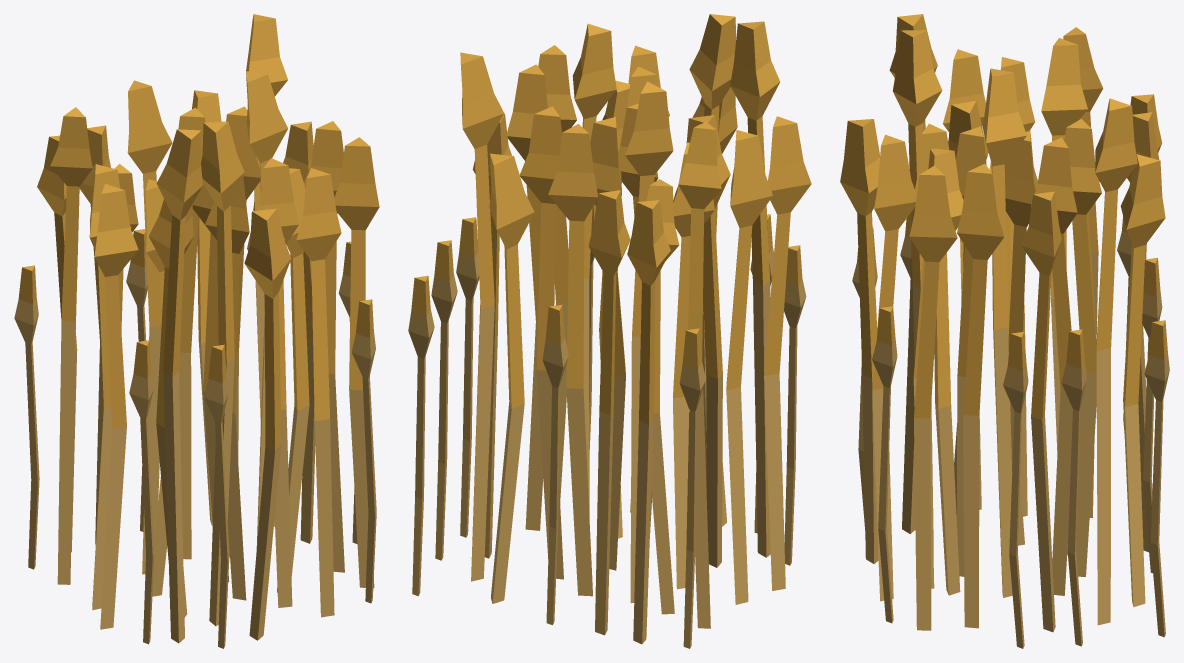
The model's file is WheatTop.fbx.
3 views of the same model, side by side, from view 1: azimuth 30°, elevation 25°; view 2: azimuth 150°, elevation 25°; view 3: azimuth 270°, elevation 25° (orthographic). The views are drawn at different scales.
Parts seen in each view (by area): view 1: Wheat; view 2: Wheat; view 3: Wheat.
Boxes of the visible parts, bbox=[...] form: Wheat: bbox=[14, 14, 379, 648]; Wheat: bbox=[408, 14, 811, 648]; Wheat: bbox=[840, 14, 1169, 648].
Bounding box in the file's own units: 50.13 × 79.49 × 45.74.
